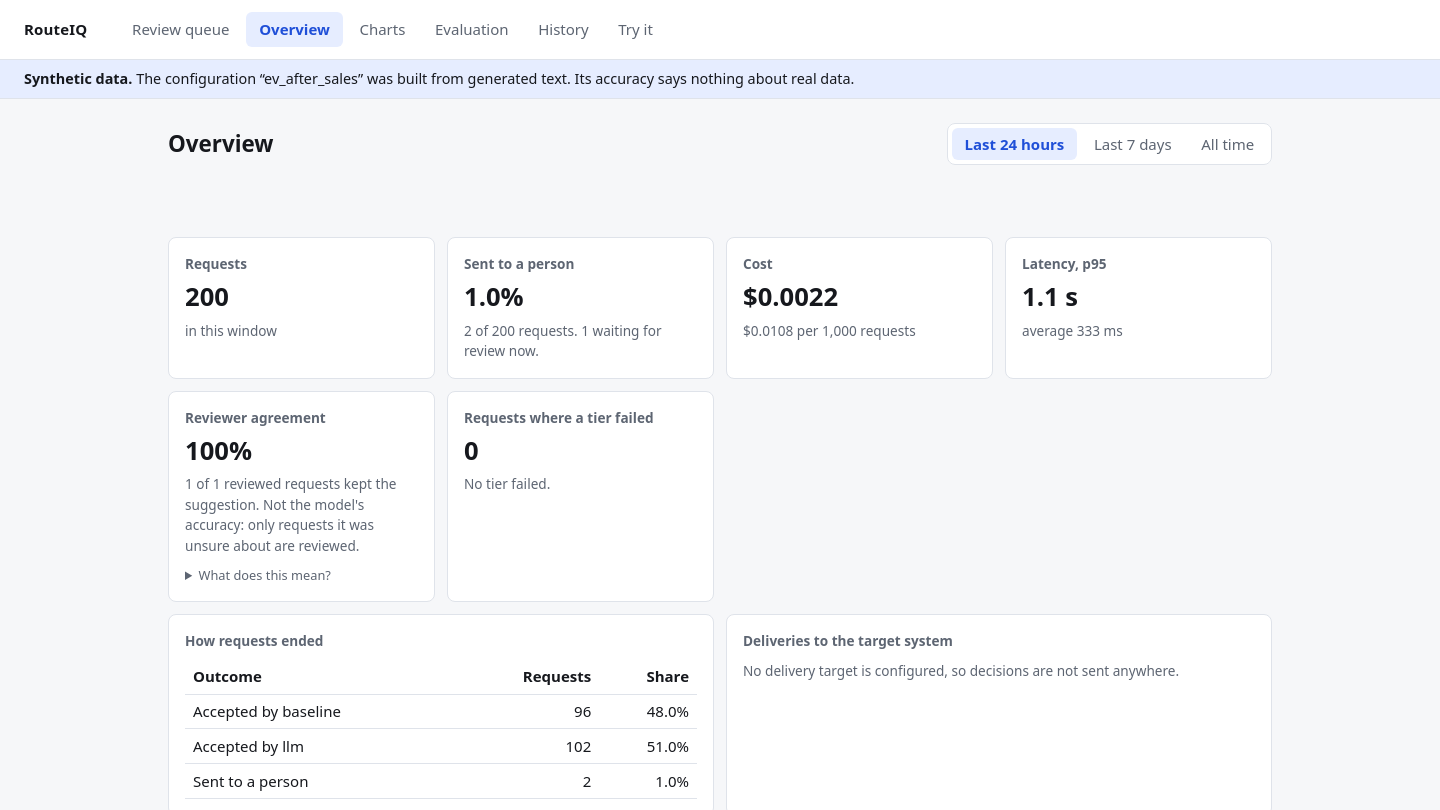
Test: the note about synthetic data › says so on every screen when the config uses synthetic data
Expected: the element that starts with "Synthetic data." is shown, [24,69,132,88]
Expected: the element that starts with "Synthetic data." shows "ev_after_sales", [264,69,358,88]
Click the link "History" at (563, 29), box [538,19,589,39]
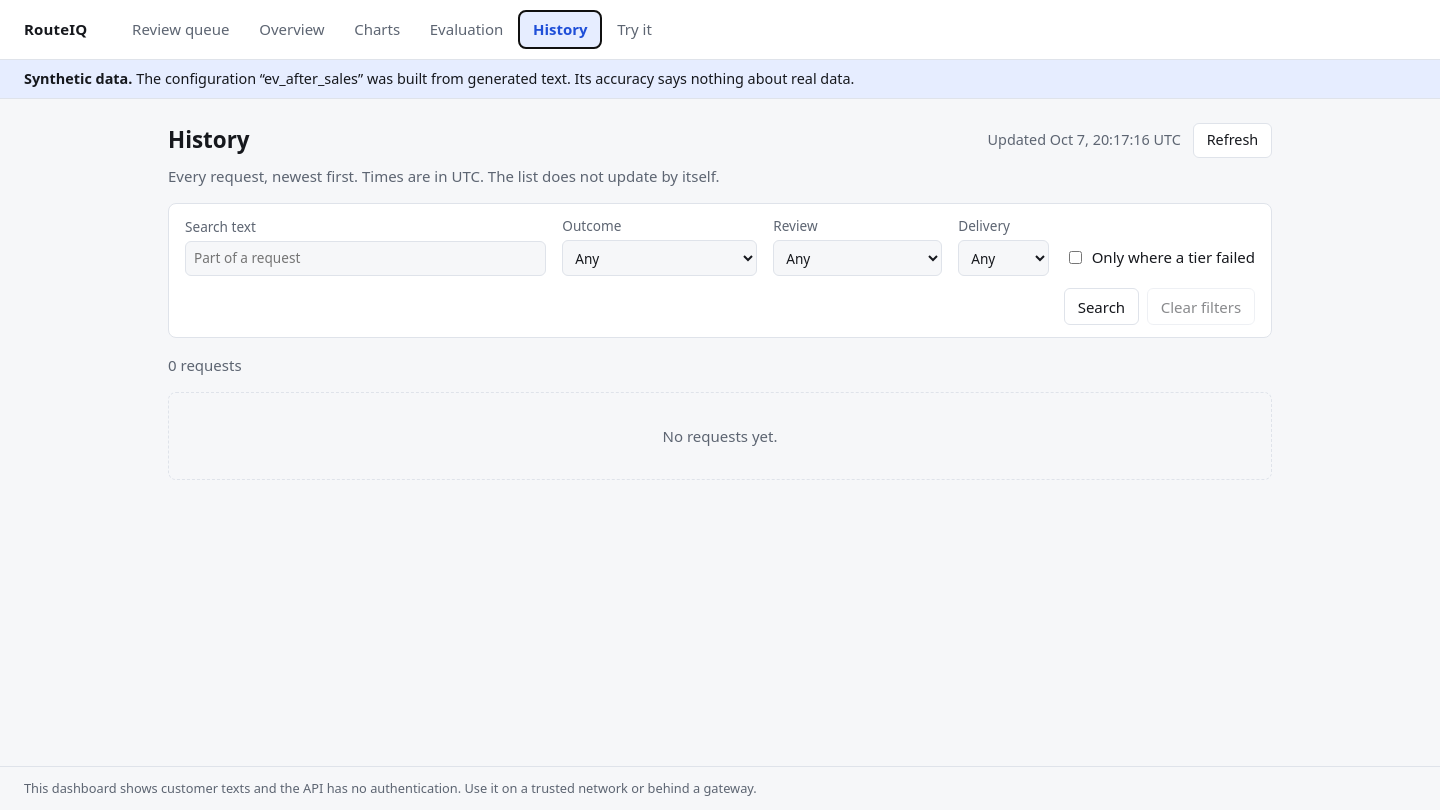
Expected: the element that starts with "Synthetic data." is shown, [0,60,1439,99]
Expected: the heading "History" is shown, [168,124,250,155]
